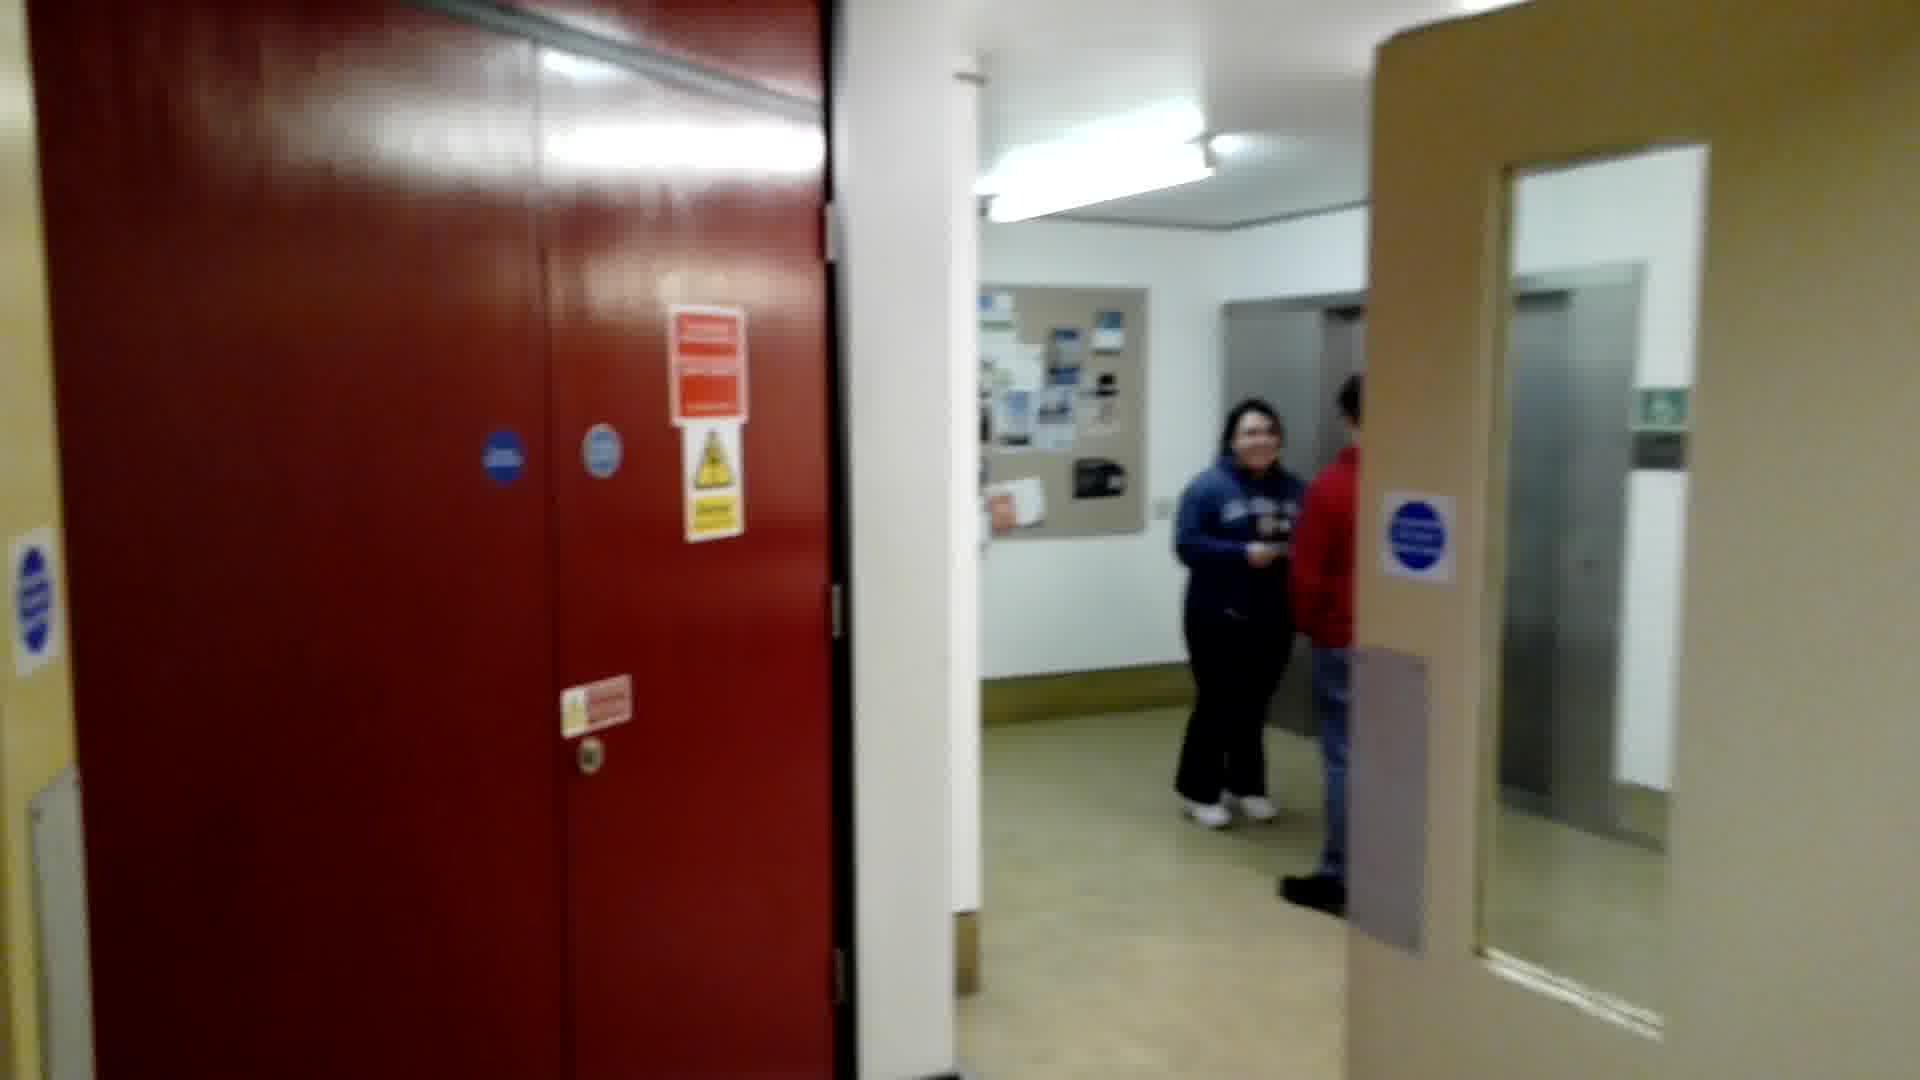Person: (1170, 391, 1302, 837)
